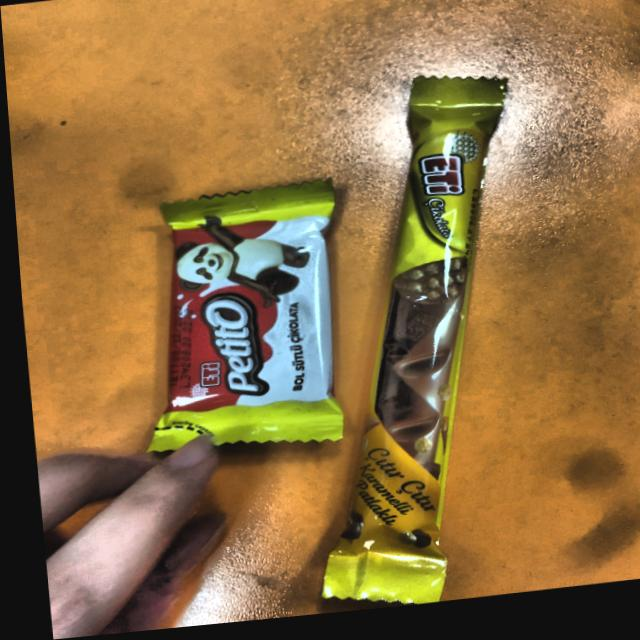Plastic: (311, 90, 506, 609), (147, 187, 337, 458)
